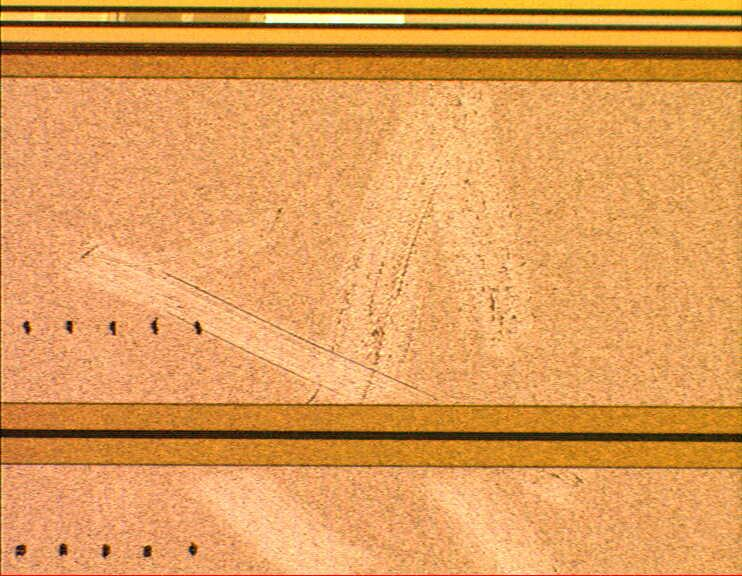SCRATCH: (50, 49, 564, 576)
